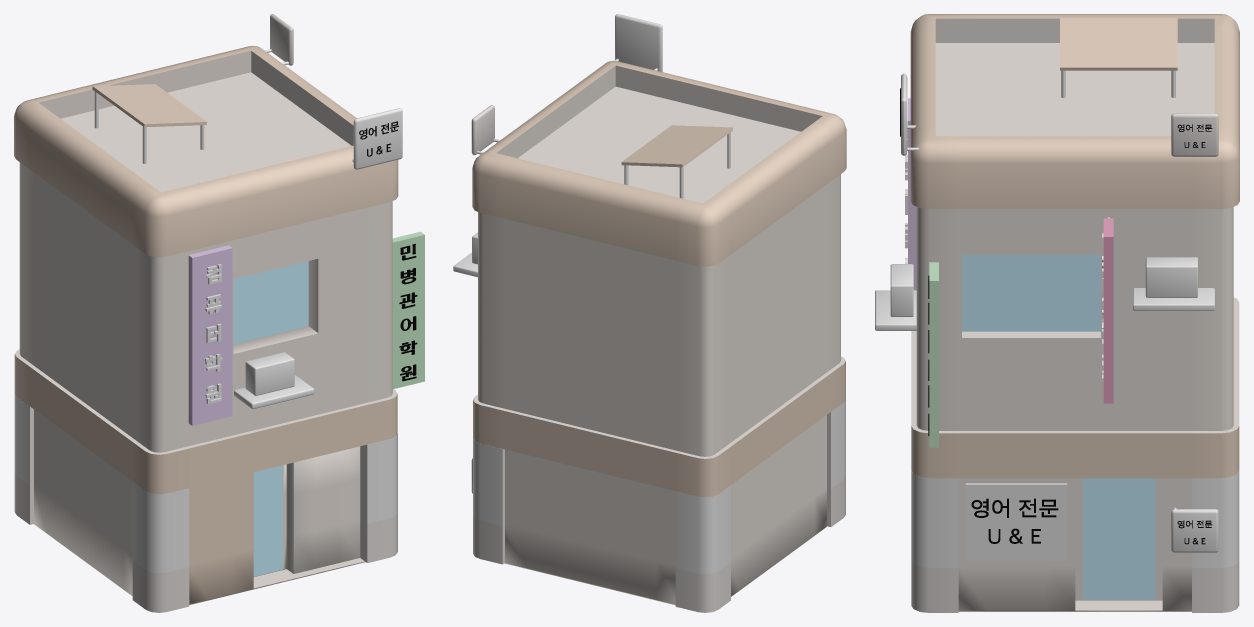
The model's file is academy.glb.
3 views of the same model, side by side, from view 1: azimuth 30°, elevation 25°; view 2: azimuth 150°, elevation 25°; view 3: azimuth 270°, elevation 25° (orthographic). The views are drawn at different scales.
Parts seen in each view (by area): view 1: 학원_1; view 2: 학원_1; view 3: 학원_1.
Boxes of the visible parts, <box> form: 학원_1: <box>14,14,424,612</box>; 학원_1: <box>453,14,846,612</box>; 학원_1: <box>875,14,1239,612</box>.
Bounding box in the file's own units: 2.38 × 3.58 × 2.3.
